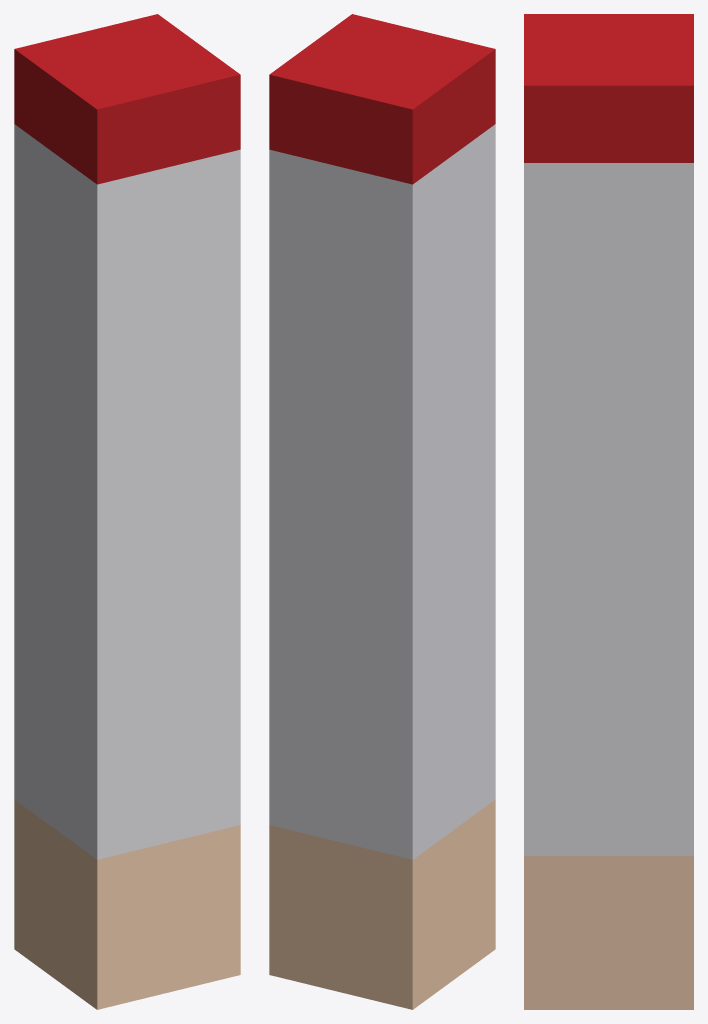
File: arm.obj
The picture shows the model from 3 angles, left to right: view 1: azimuth 30°, elevation 25°; view 2: azimuth 150°, elevation 25°; view 3: azimuth 270°, elevation 25°; orthographic projection. The views are drawn at different scales.
Bounding box in the file's own units: 0.2 × 1.2 × 0.2.
1 material, 1 textured.
